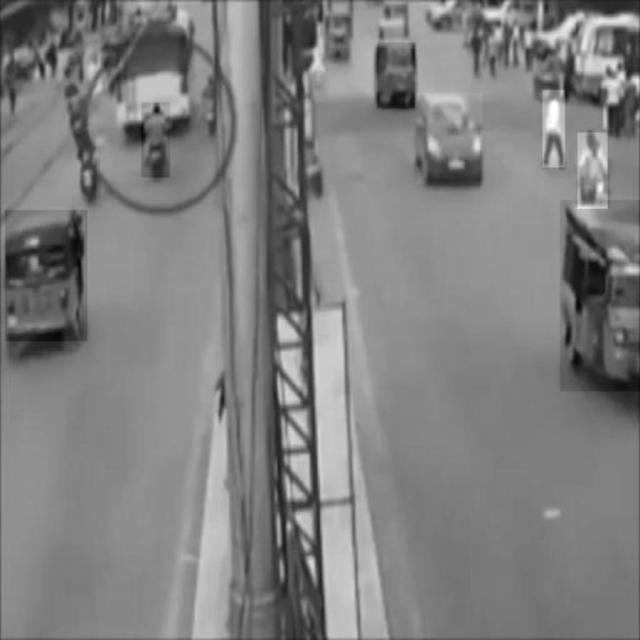person: (543, 90, 565, 167)
vehicle: (560, 201, 640, 391), (5, 211, 87, 342), (418, 93, 482, 184), (377, 43, 415, 109), (578, 133, 608, 209), (141, 102, 169, 178), (77, 127, 99, 203)
